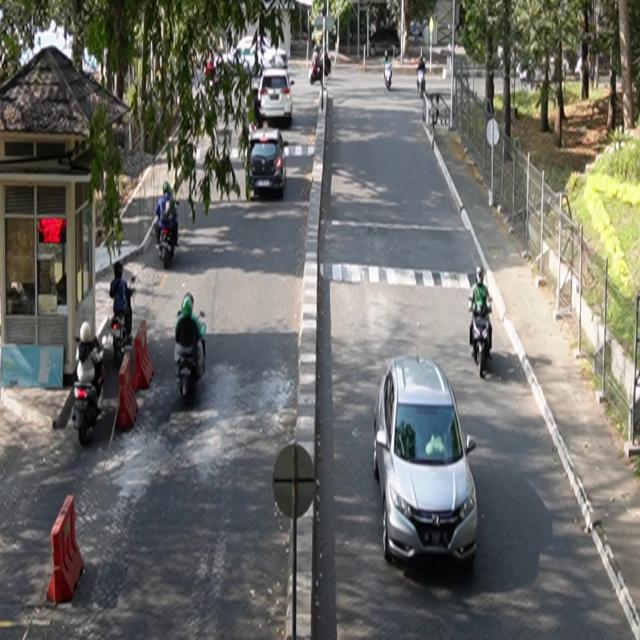car: (374, 350, 479, 569), (248, 128, 289, 198), (255, 69, 296, 127)
